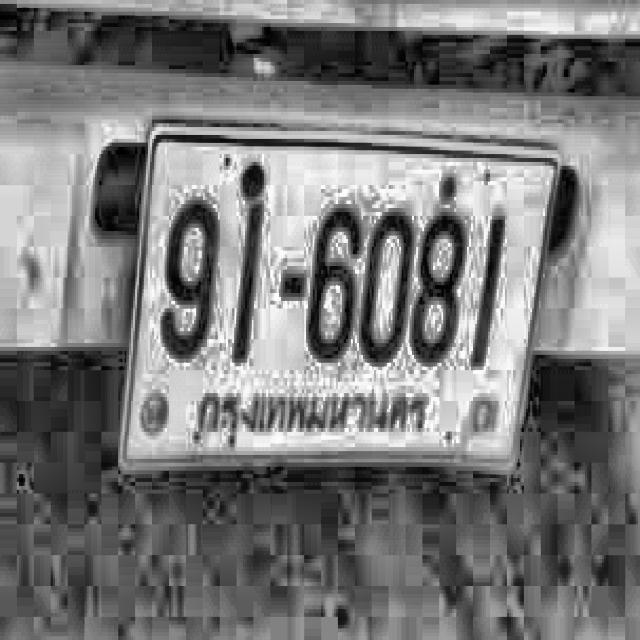license-plate: (121, 115, 558, 479)
